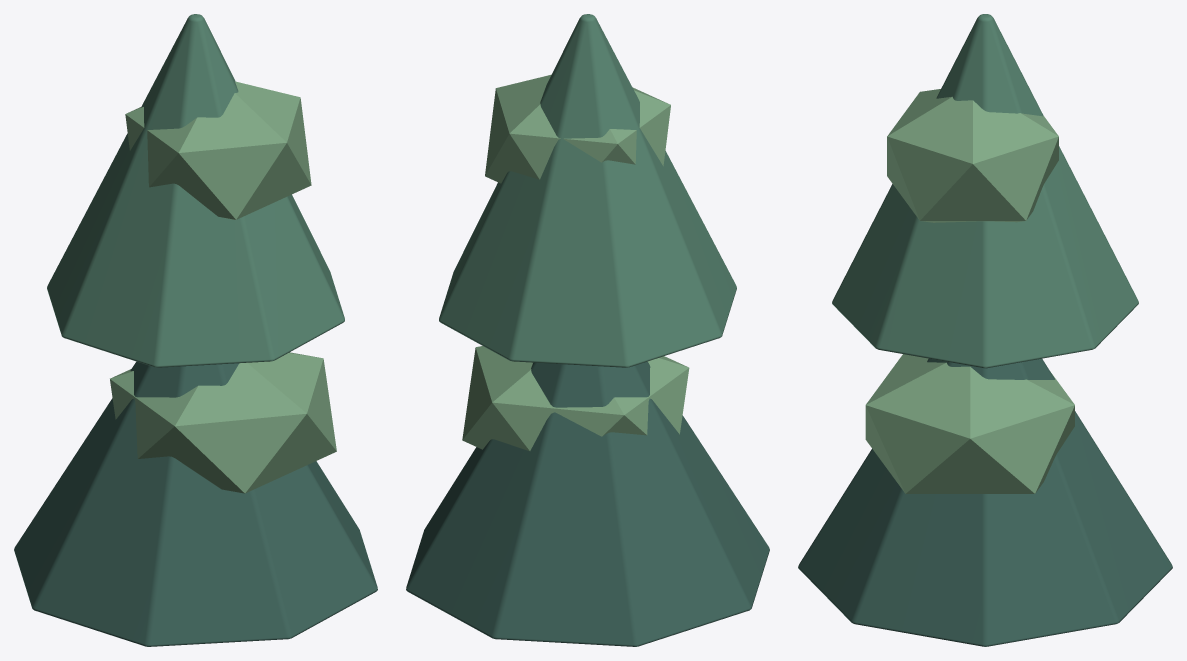
File: SM_Tree_Pine_Small.fbx
3 views of the same model, side by side, from view 1: azimuth 30°, elevation 25°; view 2: azimuth 150°, elevation 25°; view 3: azimuth 270°, elevation 25° (orthographic).
Visible parts, largest first — view 1: SM_Tree_Pine_Small; view 2: SM_Tree_Pine_Small; view 3: SM_Tree_Pine_Small.
Boxes of the visible parts, left/top/right/bottom form: SM_Tree_Pine_Small: left=14, top=14, right=377, bottom=646; SM_Tree_Pine_Small: left=406, top=14, right=769, bottom=646; SM_Tree_Pine_Small: left=798, top=14, right=1172, bottom=646.
Size of the model in its own units: 1.24 by 2.21 by 1.24.
